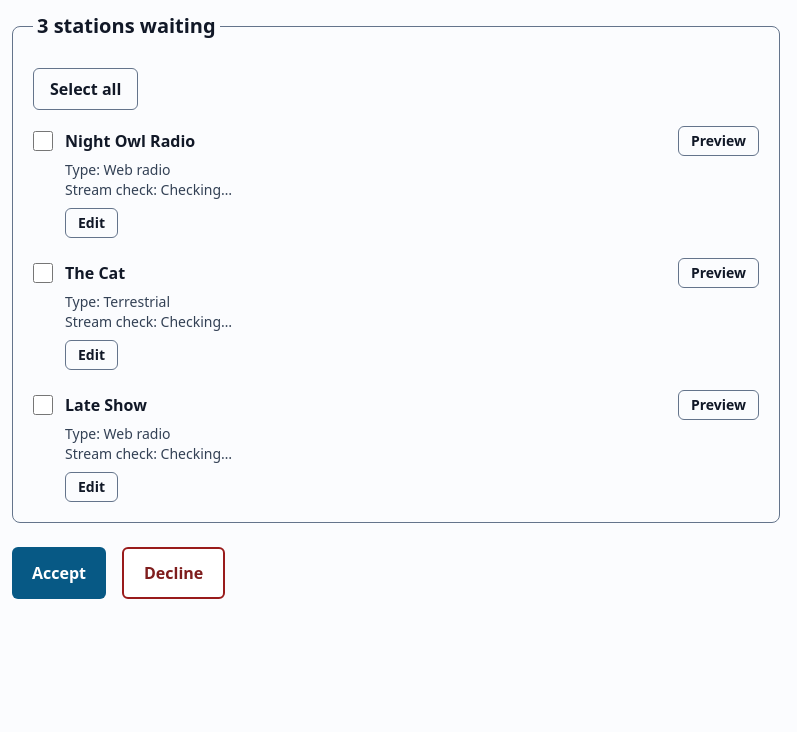
it: makes an AM or FM station web radio
Click the button "Edit" below "Night Owl Radio".
click(92, 223)  # box [65,208,118,238]
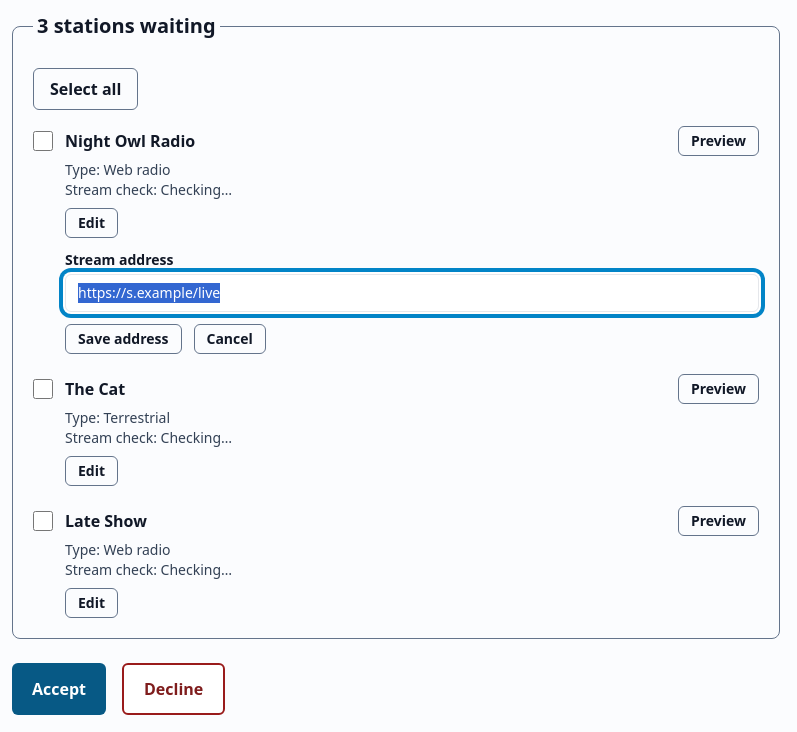
Check: the button "Make web radio" is not shown
Click the button "Edit" below "Terrestrial".
click(92, 471)  # box [65,456,118,486]
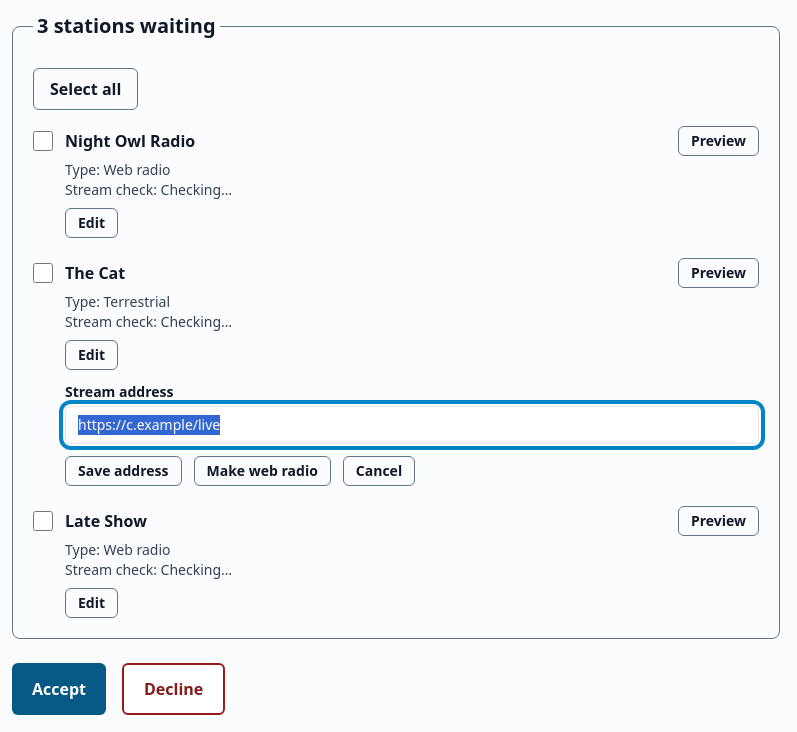
Check: the number of fields labelled "Stream address" is 1, box [65,406,759,444]
Click the button "Make web radio".
click(262, 471)  # box [194,456,331,486]
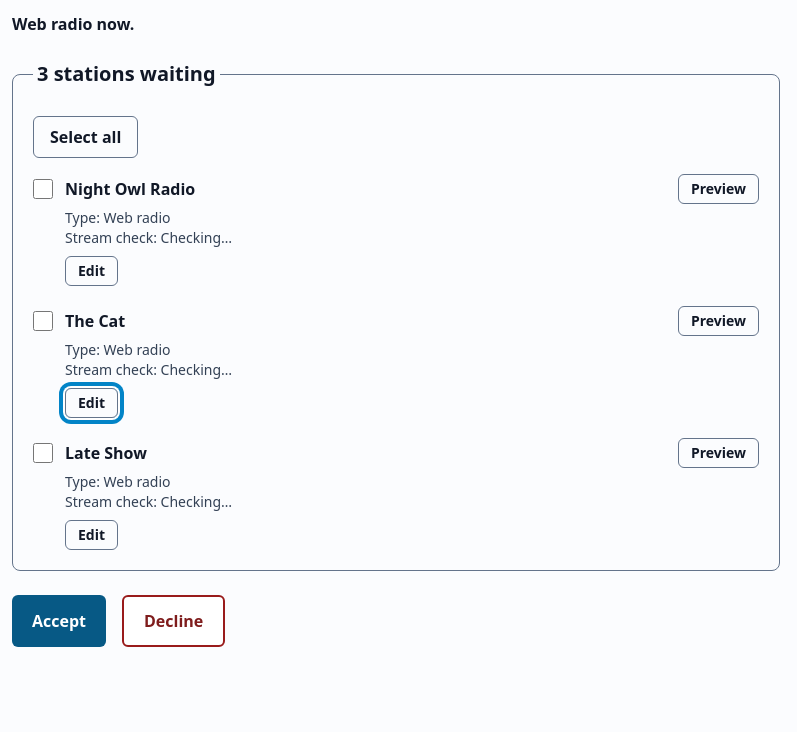
Check: the text "Type: Web radio" is shown 3 times, box [65,208,170,227]; [65,340,170,359]; [65,472,170,491]
Check: the text "Web radio now." is shown, box [12,13,134,35]
Check: the button "Make web radio" is gone
